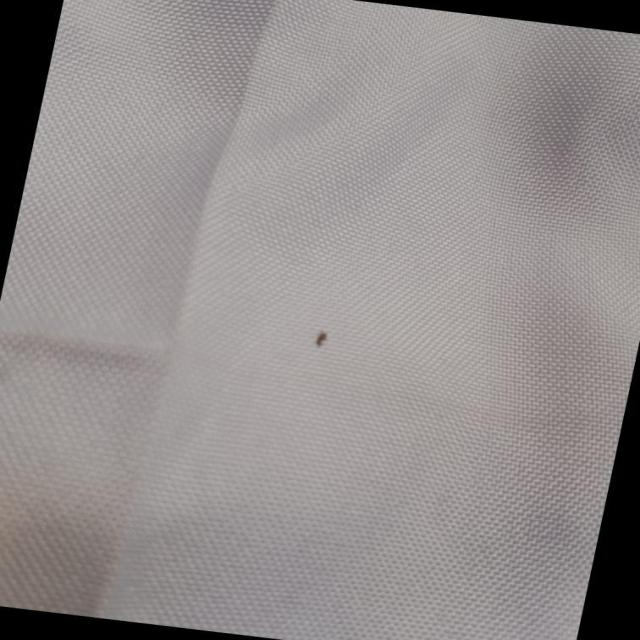stain: (297, 318, 354, 363)
